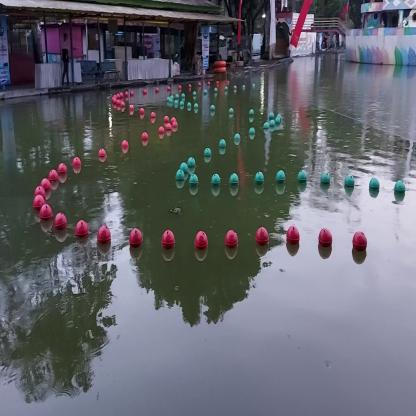green_buoy: (180, 162, 190, 178), (176, 170, 186, 186), (188, 159, 197, 175), (189, 174, 198, 190), (394, 181, 406, 193), (254, 171, 264, 184), (345, 174, 354, 188), (229, 174, 239, 186), (211, 174, 221, 185), (297, 170, 306, 182), (276, 170, 285, 182), (320, 172, 330, 182), (370, 178, 378, 190), (204, 147, 212, 156), (219, 138, 226, 148), (234, 134, 241, 141), (249, 128, 256, 134), (229, 107, 234, 115), (210, 105, 216, 111), (249, 109, 254, 115)
red_buoy: (352, 232, 366, 251), (129, 229, 144, 246), (194, 231, 208, 249), (162, 230, 175, 249), (286, 227, 300, 243), (97, 226, 110, 243), (319, 229, 332, 246), (225, 230, 238, 247), (75, 220, 88, 236), (255, 228, 268, 244), (40, 204, 52, 220), (34, 187, 46, 202), (55, 212, 66, 228), (57, 162, 68, 176), (48, 170, 58, 182), (41, 178, 50, 191), (72, 156, 81, 167), (98, 148, 107, 158), (171, 119, 178, 131), (121, 140, 129, 148), (141, 132, 148, 141), (158, 127, 164, 135), (166, 124, 172, 131), (151, 111, 156, 119), (129, 105, 134, 112), (164, 116, 170, 121), (140, 108, 144, 115)
